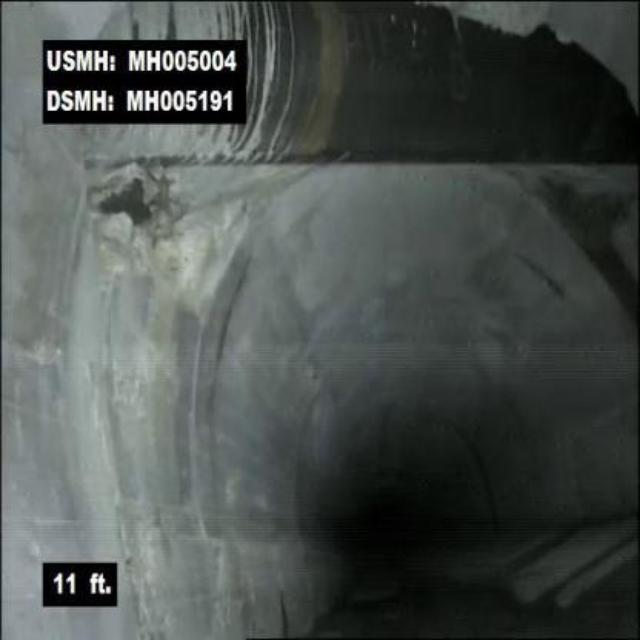Utility intrusion: (65, 8, 638, 182)
